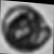correct: (1, 2, 53, 54)
